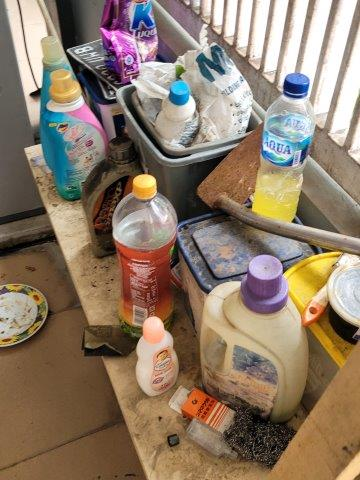botolplastik: (113, 176, 180, 336), (254, 75, 316, 222)
